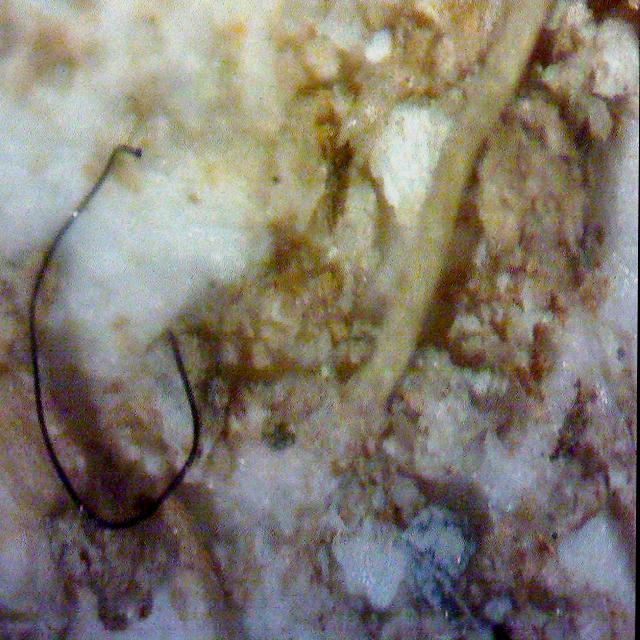microplastic: (29, 145, 201, 528)
